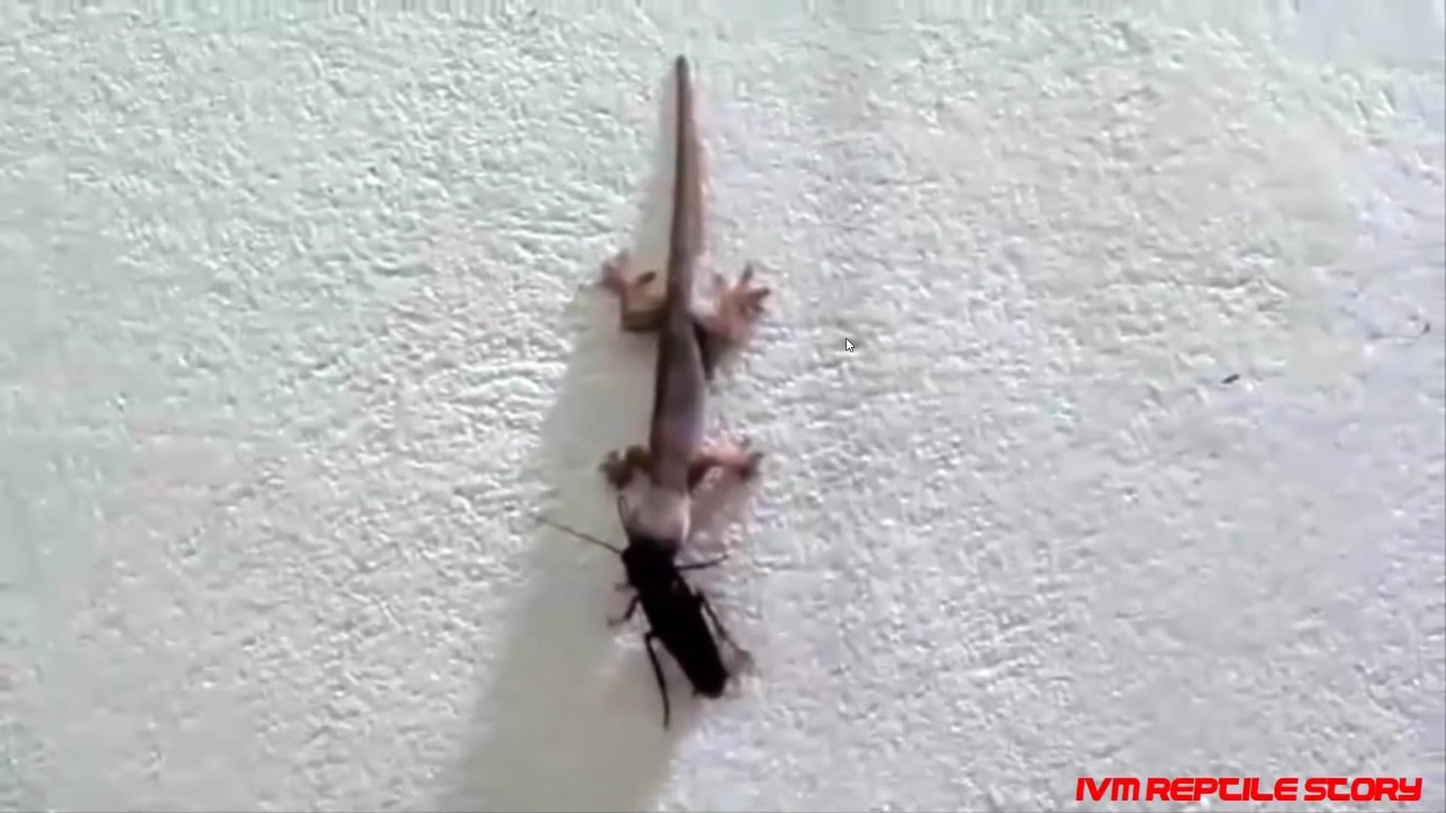cockroach: (621, 543, 735, 705)
lizard: (588, 94, 777, 577)
